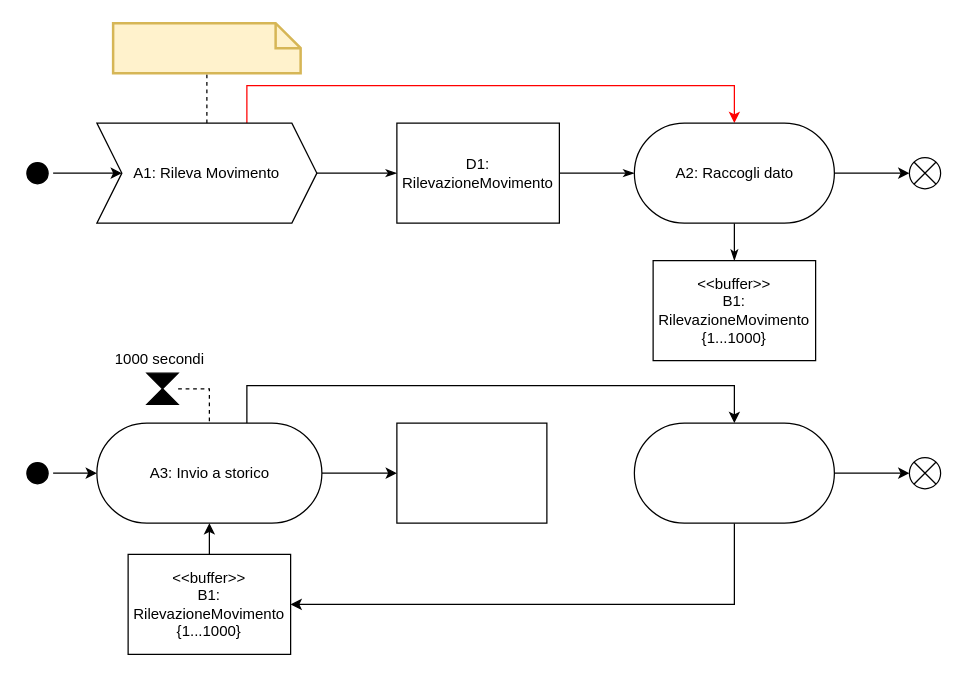
Some shapes in this 963 by 676 pixel diagram are drawn without their labels. The centre of each missing label's shape, as x and y in pixels:
"<<datastore>> Ds1: Movimento {1...*}" goes at [471,472].
"<<frequency>> 1 secondo" goes at [206,47].
"A4: Libera buffer" goes at [733,472].
